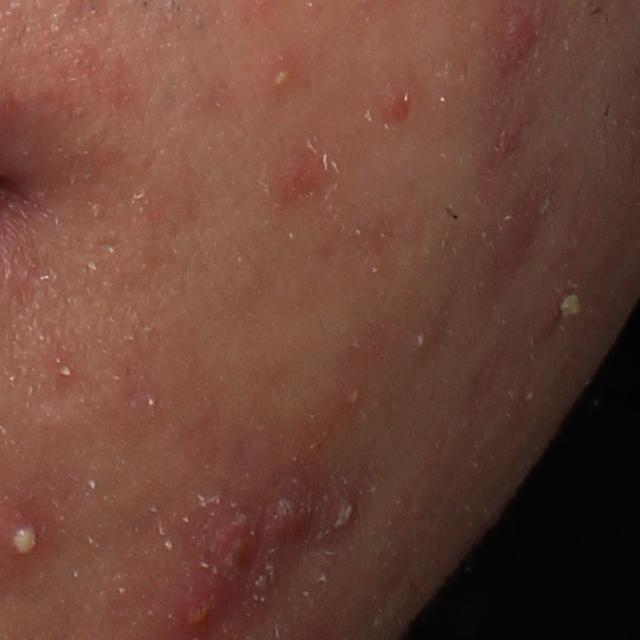papule: (204, 512, 260, 587), (364, 83, 430, 137), (275, 147, 325, 207), (262, 494, 315, 542), (499, 13, 544, 66)
pustule: (339, 380, 367, 411)
